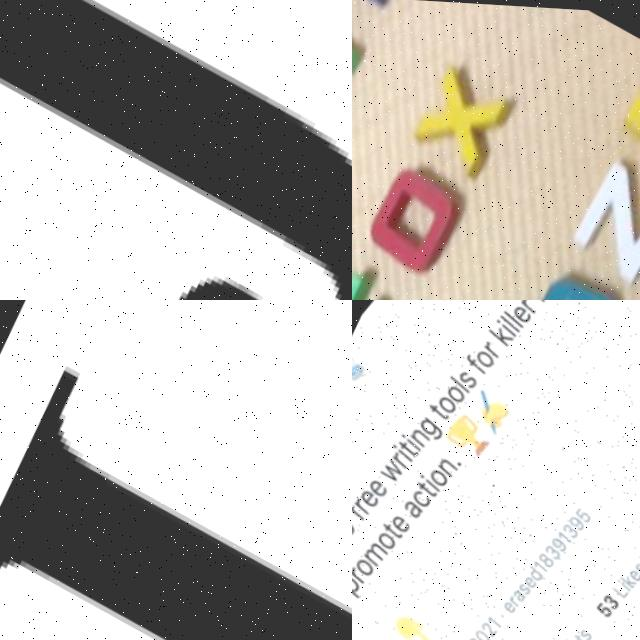0: (467, 624, 489, 640)
1: (479, 612, 502, 631), (550, 525, 572, 543), (526, 555, 546, 572)
2: (473, 617, 495, 637), (459, 632, 481, 640)
3: (536, 537, 561, 560), (594, 586, 619, 609), (555, 517, 577, 537)
5: (589, 595, 613, 618), (569, 501, 590, 521)
8: (532, 547, 553, 567)
9: (543, 530, 568, 553), (562, 510, 584, 530)
D: (512, 259, 626, 300)
J: (0, 0, 352, 300)
L: (0, 300, 352, 640)
O: (359, 158, 465, 273)
R: (617, 41, 640, 164)
X: (407, 51, 520, 174)
Y: (352, 0, 375, 91)
Z: (561, 146, 640, 288)
